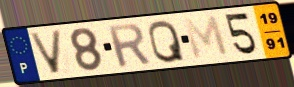5: (223, 13, 259, 57)
8: (69, 26, 105, 73)
M: (181, 14, 232, 62)
Q: (147, 18, 188, 65)
R: (105, 22, 153, 69)
V: (27, 29, 64, 76)
